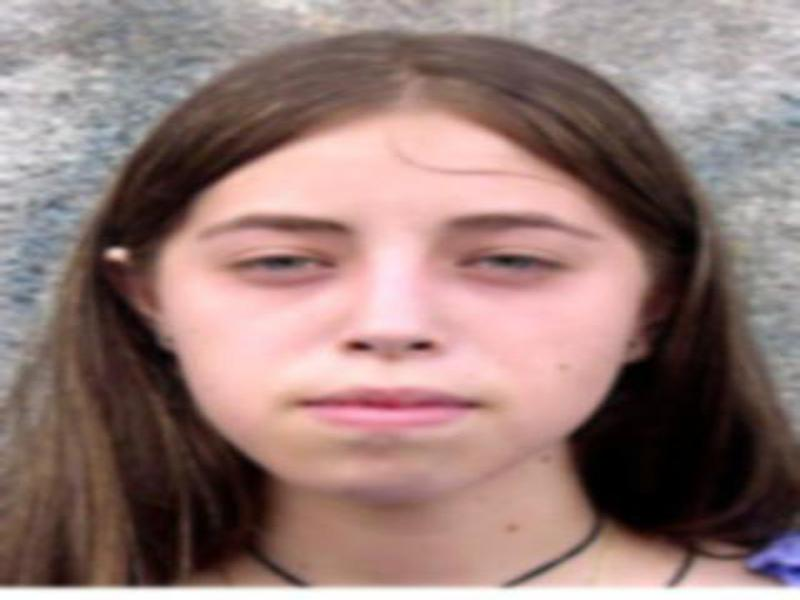without_mask: (158, 153, 630, 504)
